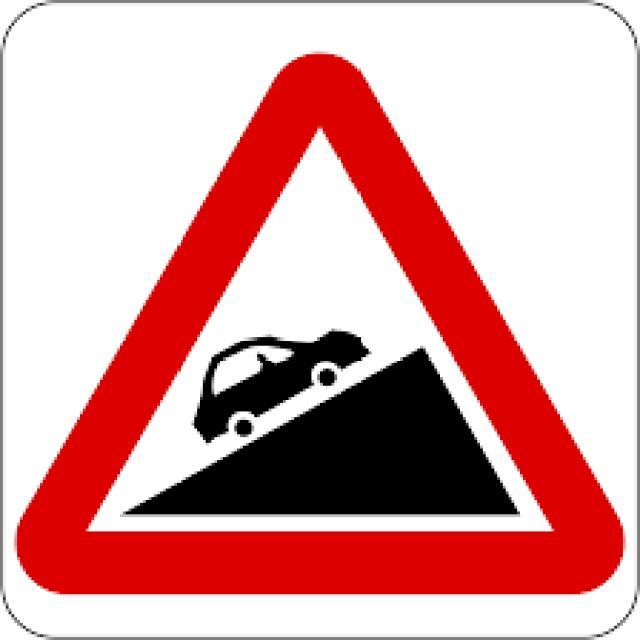steep ascent: (26, 51, 608, 590)
